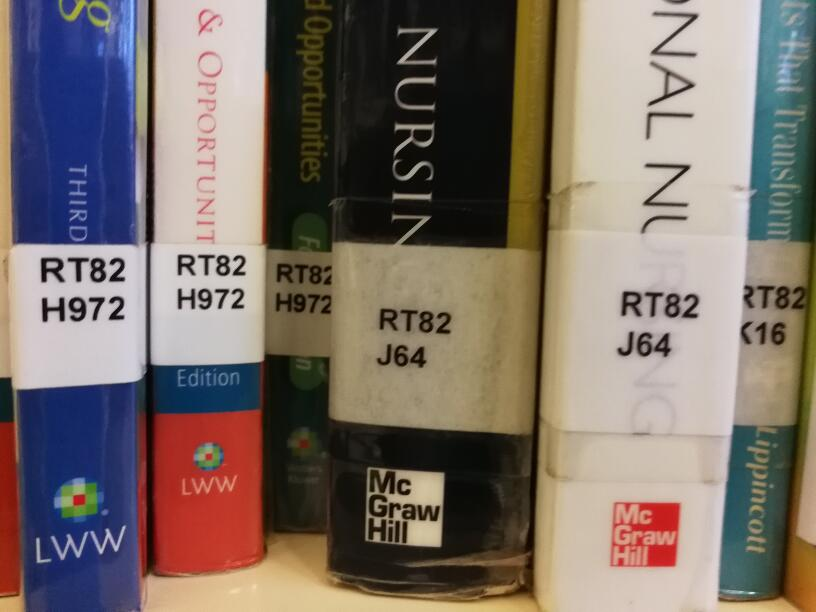booklabel: (37, 253, 128, 325), (614, 287, 702, 359), (372, 303, 455, 370), (169, 250, 250, 314), (739, 279, 807, 348), (271, 259, 336, 319)
